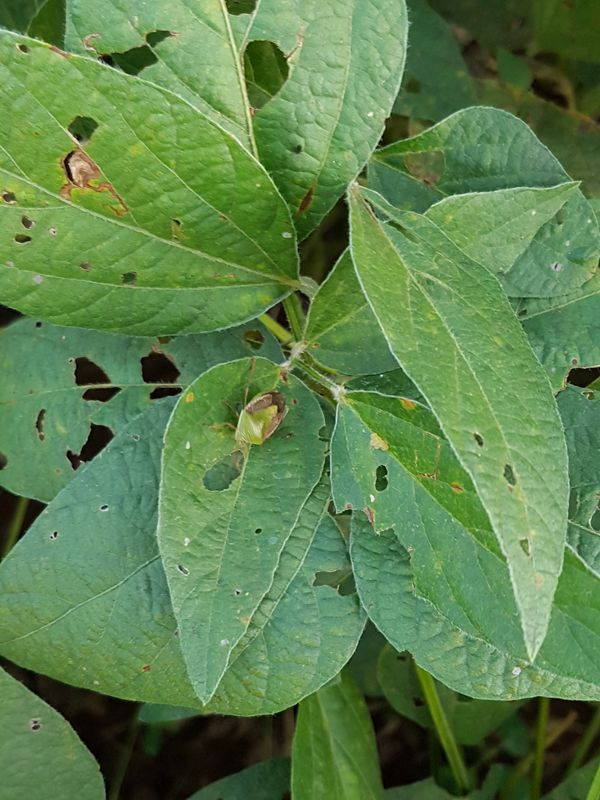Edessa_meditabunda: (204, 382, 297, 475)
